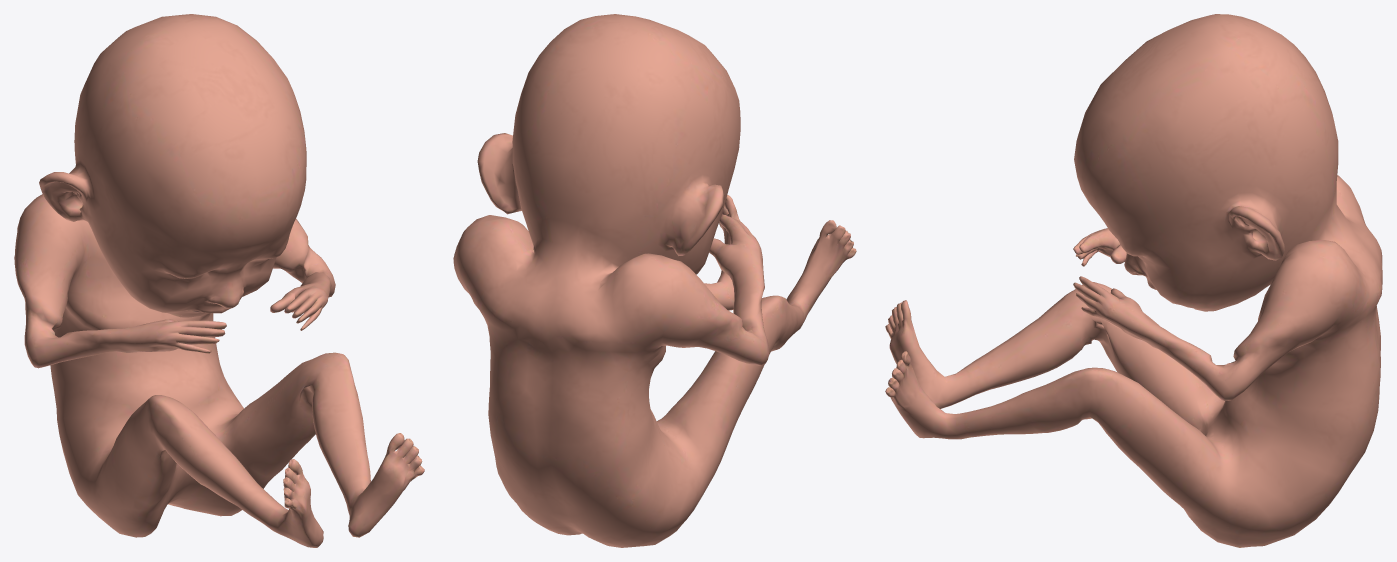
Rendered from pb-w22.fbb028ef.glb.
3 views of the same model, side by side, from view 1: azimuth 30°, elevation 25°; view 2: azimuth 150°, elevation 25°; view 3: azimuth 270°, elevation 25° (orthographic).
Parts seen in each view (by area): view 1: Baby; view 2: Baby; view 3: Baby.
Boxes of the visible parts, x1,y1,x2,y2 form: Baby: (14, 14, 424, 547); Baby: (453, 14, 856, 547); Baby: (885, 14, 1382, 547).
Bounding box in the file's own units: 0.1278 × 0.2043 × 0.1839.
1 material, 1 textured.
